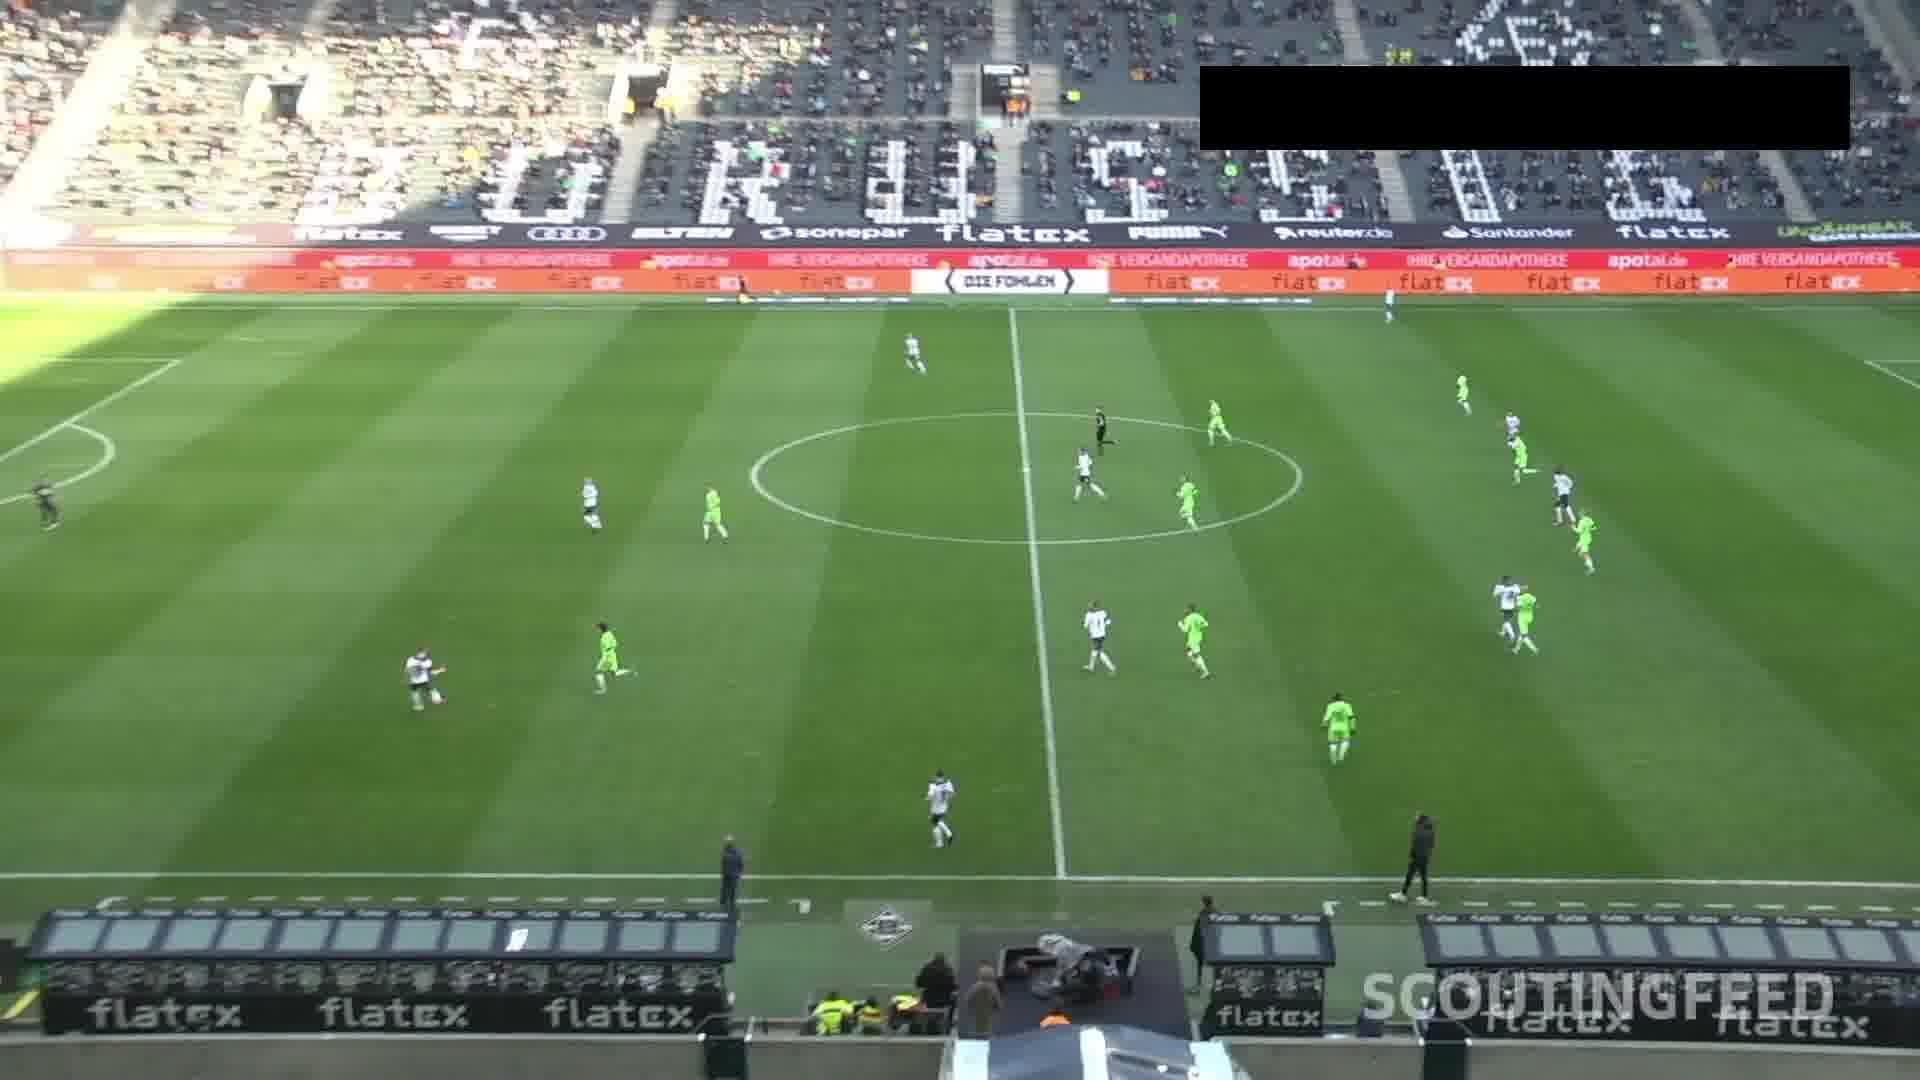football: (431, 688, 442, 707)
